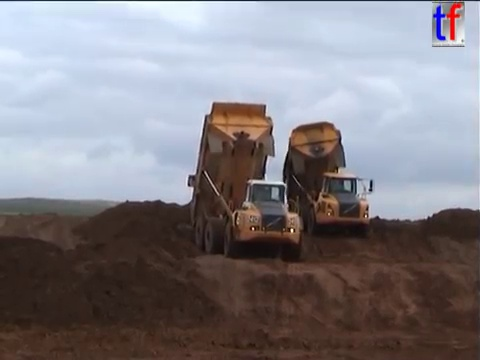truck: (185, 99, 310, 263), (278, 120, 375, 241)
